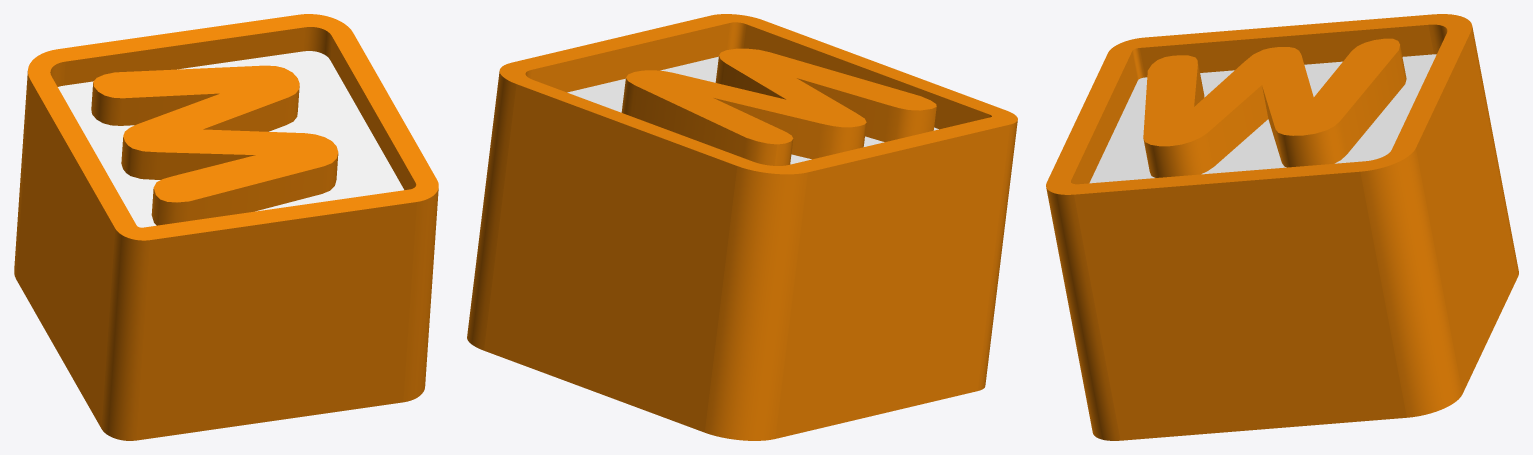
The model's file is Playblock_orange.fbx.
The picture shows the model from 3 angles, left to right: view 1: azimuth 30°, elevation 25°; view 2: azimuth 150°, elevation 25°; view 3: azimuth 270°, elevation 25°; orthographic projection. The views are drawn at different scales.
Parts seen in each view (by area): view 1: Timothy_1_1, M1; view 2: Timothy_1_1, M1; view 3: Timothy_1_1, M1.
Part boxes in pixels (left/top/right/bottom): Timothy_1_1: left=14, top=14, right=438, bottom=440; M1: left=91, top=65, right=338, bottom=225; Timothy_1_1: left=467, top=14, right=1017, bottom=440; M1: left=621, top=48, right=936, bottom=165; Timothy_1_1: left=1046, top=14, right=1518, bottom=440; M1: left=1143, top=38, right=1406, bottom=177.
Bounding box in the file's own units: 1220 × 923 × 1307.
